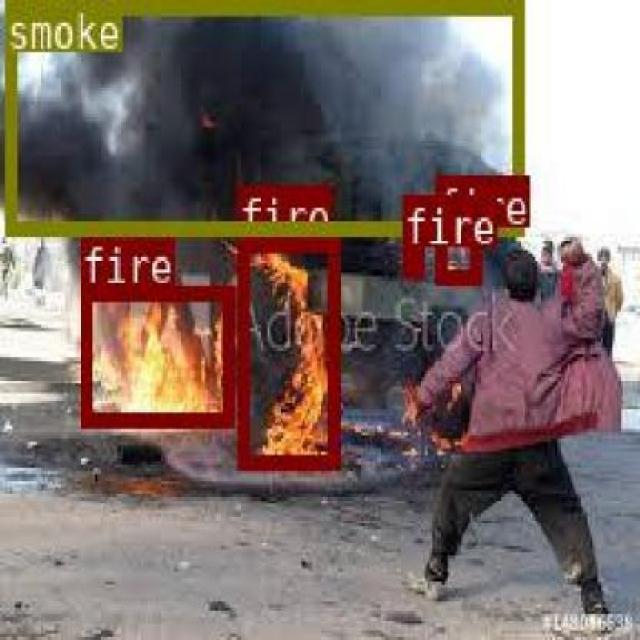fire: (237, 234, 336, 466), (78, 283, 231, 425), (433, 226, 478, 280), (400, 247, 422, 276)
smoke: (3, 0, 520, 231)
